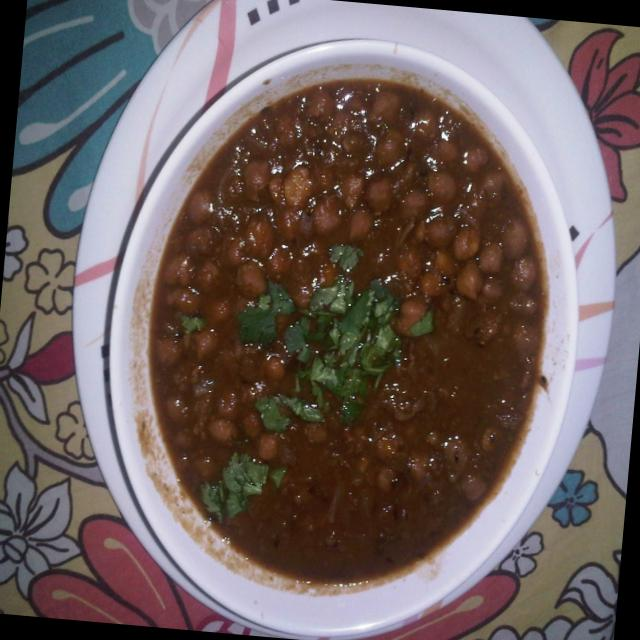Chole: (127, 63, 566, 604)
